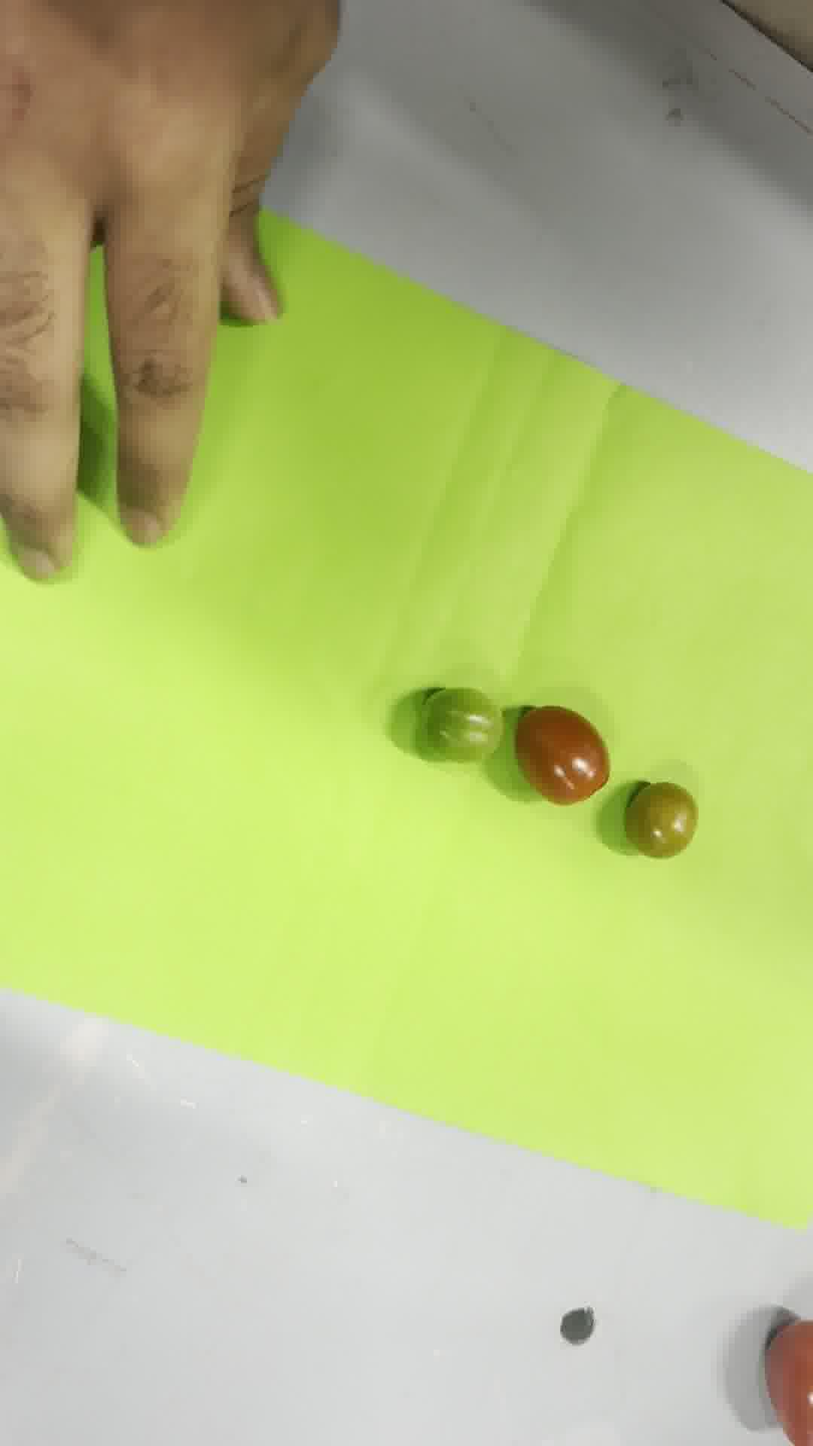green_cherry_tomato: (422, 687, 501, 761)
red_cherry_tomato: (515, 706, 609, 805)
yellow_cherry_tomato: (623, 779, 698, 859)
